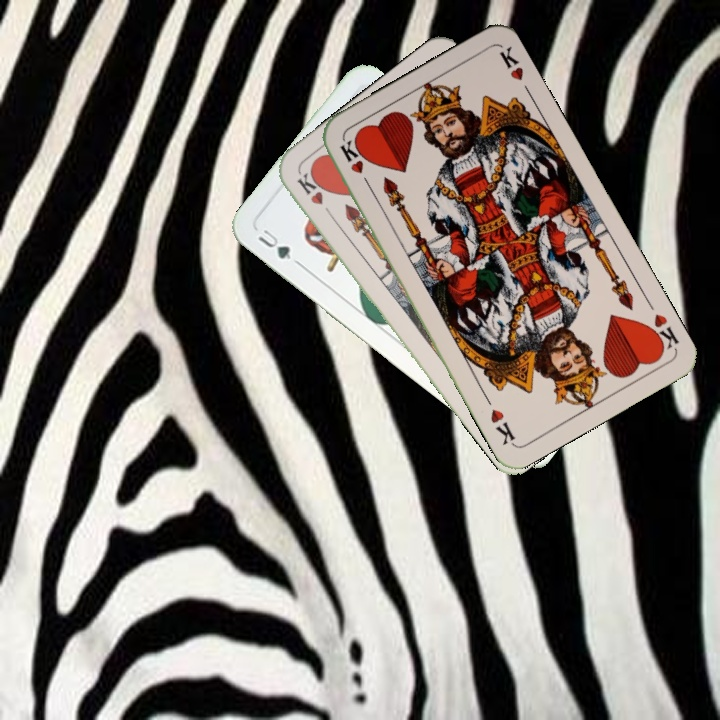GU: (254, 225, 294, 262)
HK: (292, 169, 336, 221), (336, 135, 374, 192), (643, 309, 682, 356)
